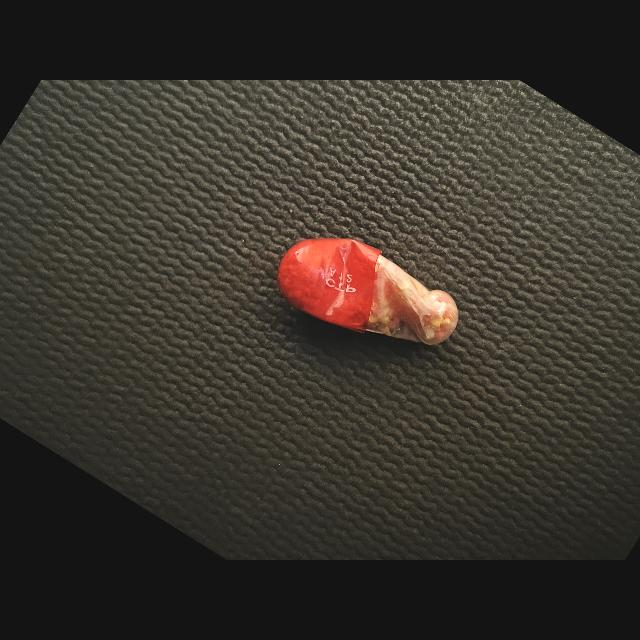Defective Capsule: (279, 238, 459, 345)
